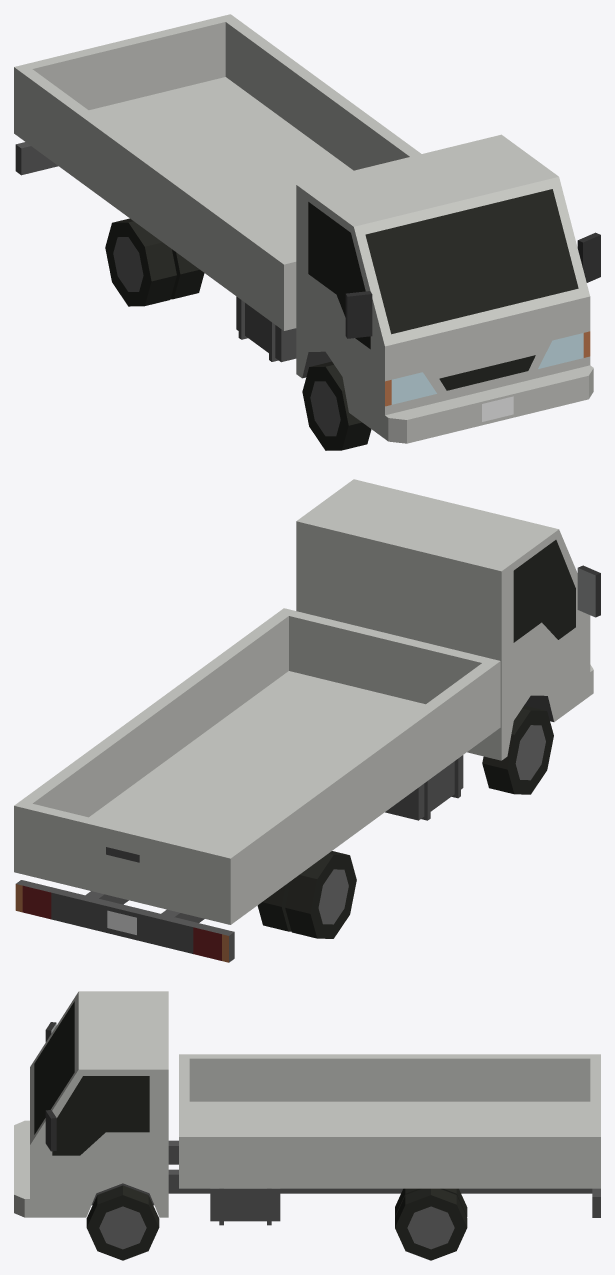
The model's file is Veh_Truck_02_Flat_White.glb.
The picture shows the model from 3 angles, top to bottom: view 1: azimuth 30°, elevation 25°; view 2: azimuth 150°, elevation 25°; view 3: azimuth 270°, elevation 25°; orthographic projection. The views are drawn at different scales.
Parts seen in each view (by area): view 1: Truck_02_Flat, Wheel_RR, Wheel_FR; view 2: Truck_02_Flat, Wheel_RR, Wheel_FR; view 3: Truck_02_Flat, Wheel_RL, Wheel_FL.
Part boxes in pixels (x1,y1,x2,y2): Truck_02_Flat: (14, 14, 600, 443); Wheel_RR: (105, 218, 204, 306); Wheel_FR: (302, 361, 371, 450); Truck_02_Flat: (14, 479, 600, 962); Wheel_RR: (257, 851, 356, 938); Wheel_FR: (482, 705, 553, 794); Truck_02_Flat: (14, 991, 600, 1225); Wheel_RL: (395, 1188, 467, 1260); Wheel_FL: (86, 1185, 159, 1260).
Size of the model in its own units: 1.27 by 1.17 by 3.26.
Materials: 1 (1 with a texture image).
